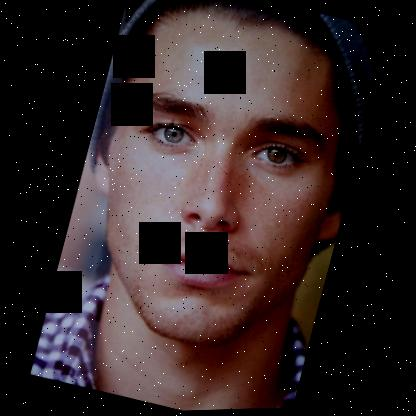Male: (53, 0, 383, 378)
